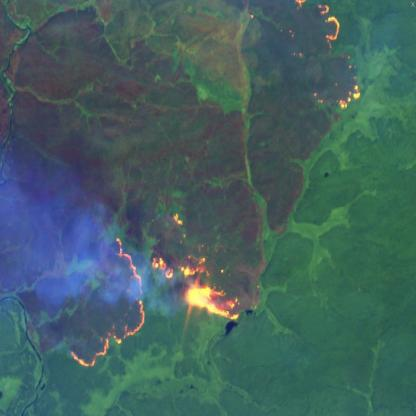fire: (67, 210, 243, 372), (292, 0, 364, 112)
